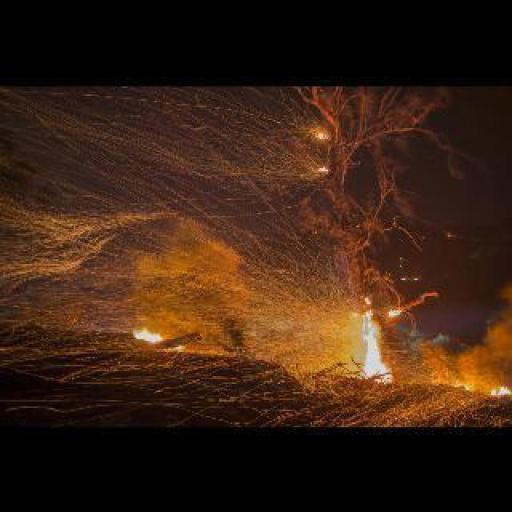smoke: (350, 302, 412, 386), (123, 325, 189, 357)
